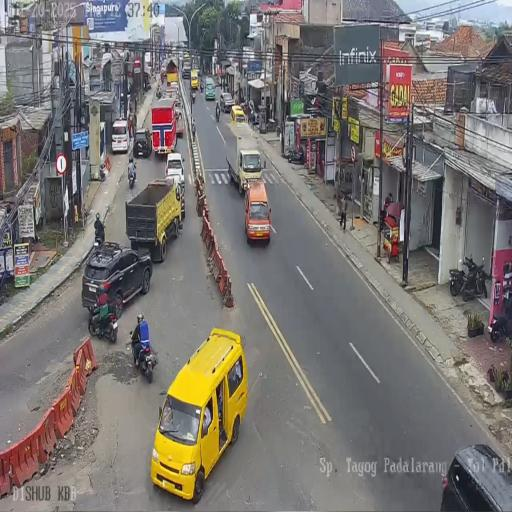car: (149, 327, 245, 499), (439, 443, 512, 508), (244, 180, 270, 243), (164, 152, 186, 199), (111, 118, 130, 154), (133, 128, 152, 157), (230, 104, 246, 126), (219, 91, 234, 112), (204, 78, 216, 100), (190, 70, 199, 90), (183, 52, 190, 62), (196, 68, 203, 77)
motorcycle: (449, 254, 488, 302), (87, 294, 118, 343), (131, 330, 158, 383), (488, 289, 512, 342), (286, 145, 304, 165), (128, 162, 137, 189), (250, 110, 260, 129), (156, 85, 162, 99), (215, 106, 220, 122), (276, 123, 281, 138), (191, 90, 196, 104), (146, 81, 152, 92), (200, 80, 203, 93)
truck: (126, 175, 184, 263), (227, 142, 262, 195), (151, 97, 179, 156), (166, 58, 178, 86), (166, 81, 179, 104), (182, 62, 191, 81), (144, 51, 151, 74)
